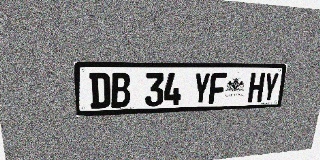3: (145, 73, 164, 107)
4: (163, 73, 182, 106)
B: (111, 73, 130, 108)
D: (89, 73, 110, 109)
F: (208, 73, 227, 104)
H: (247, 73, 265, 102)
Y: (192, 73, 211, 105), (262, 73, 279, 102)
